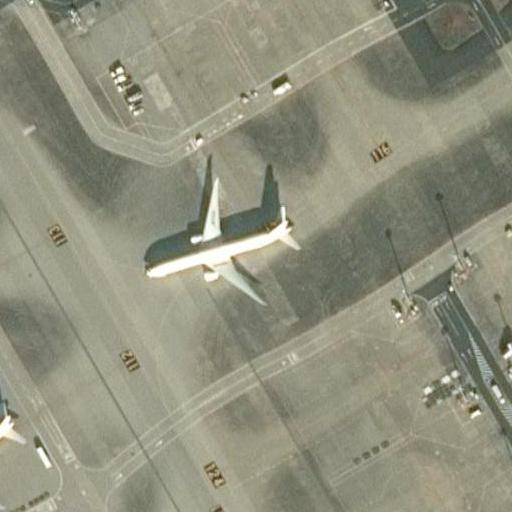Aircraft: (146, 168, 299, 294), (0, 387, 31, 512)
